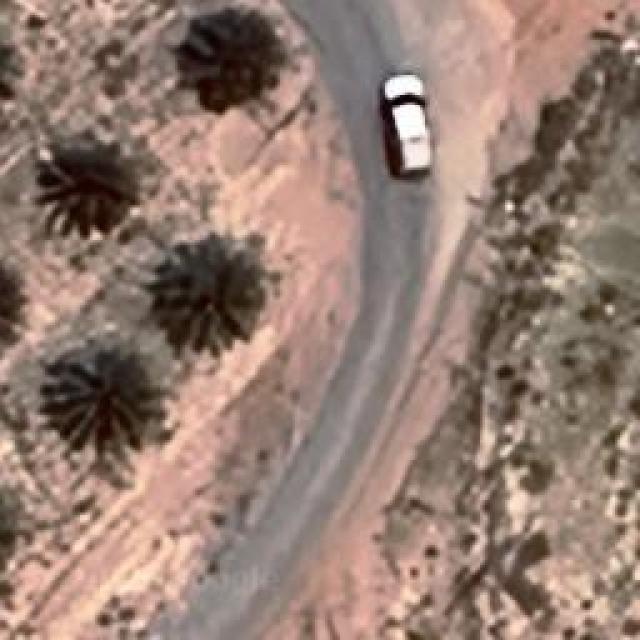PalmTree: (45, 340, 160, 472), (152, 235, 262, 355), (11, 66, 90, 189), (175, 15, 280, 103), (0, 474, 33, 574), (0, 260, 30, 348), (0, 20, 16, 114)
